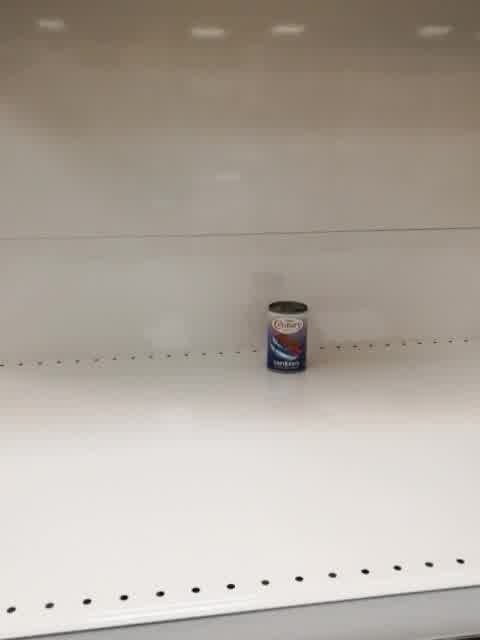sardine: (266, 300, 310, 374)
